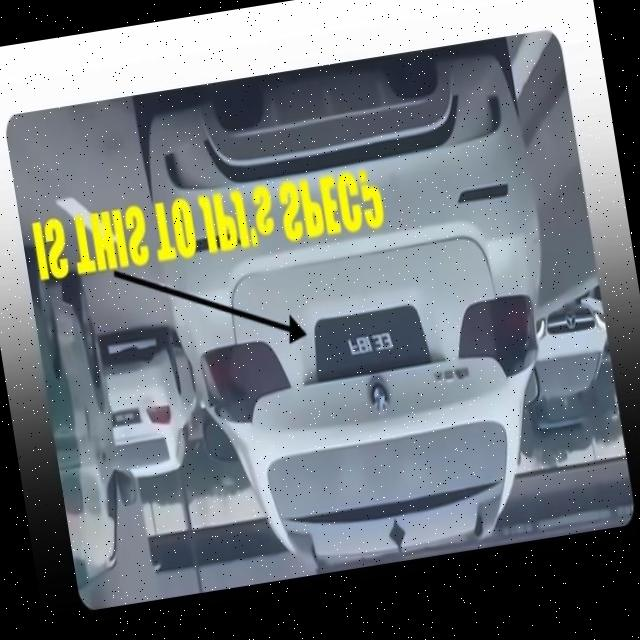License_Plate: (307, 298, 435, 388), (111, 407, 144, 430)
